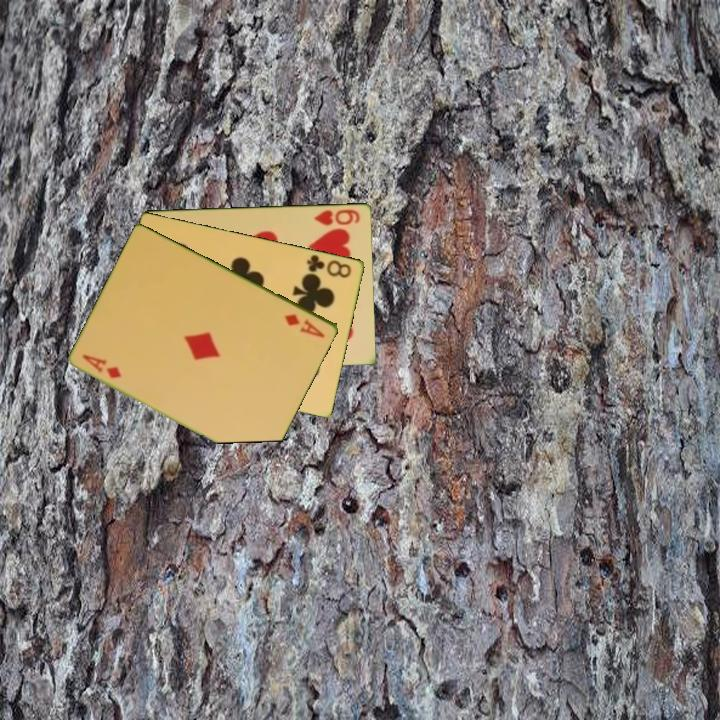6h: (311, 205, 363, 228)
8c: (304, 251, 354, 281)
Ad: (281, 310, 328, 341), (79, 350, 125, 381)
